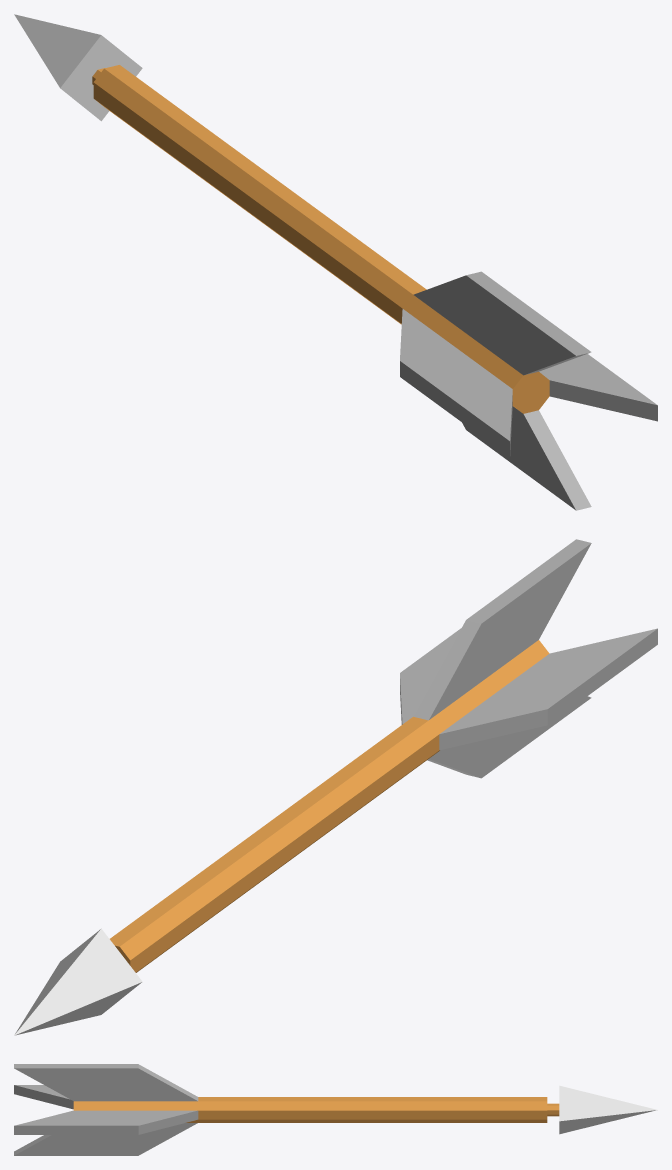
The model's file is arrow.fbx.
The picture shows the model from 3 angles, top to bottom: view 1: azimuth 30°, elevation 25°; view 2: azimuth 150°, elevation 25°; view 3: azimuth 270°, elevation 25°; orthographic projection. The views are drawn at different scales.
Parts seen in each view (by area): view 1: 立方体.001; view 2: 立方体.001; view 3: 立方体.001.
Boxes of the visible parts, x1,y1,x2,y2 form: 立方体.001: (14,14,657,510); 立方体.001: (14,539,657,1035); 立方体.001: (14,1064,656,1155).
Size of the model in its own units: 9.31 by 9.31 by 62.16.
